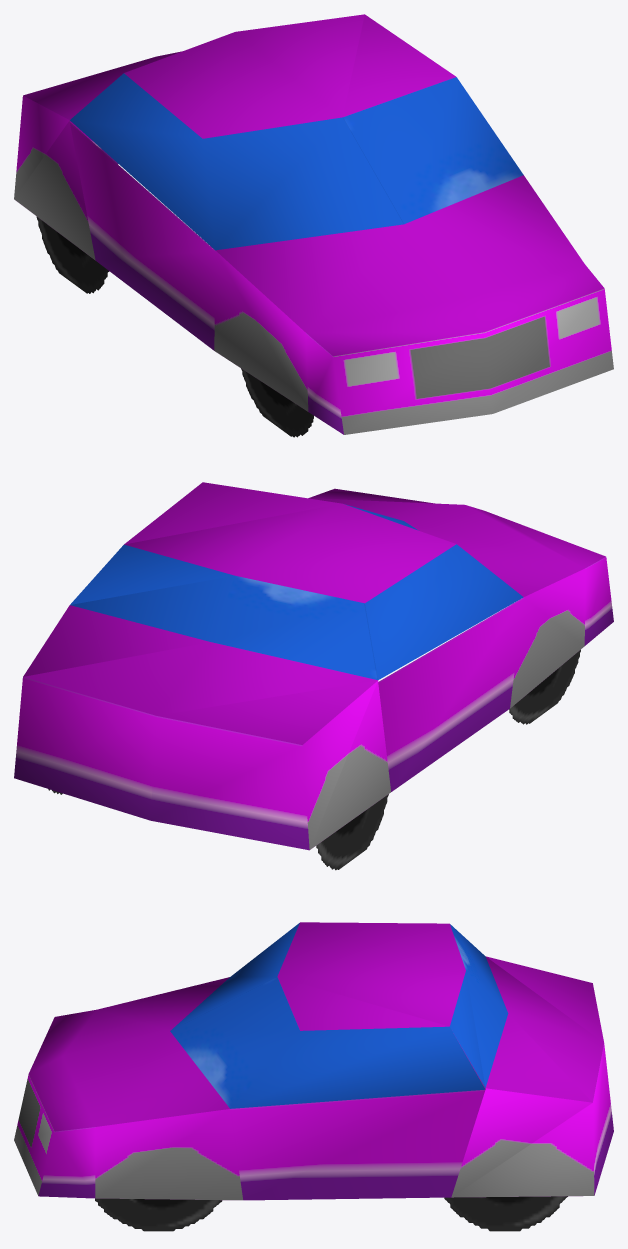
Rendered from ORG_CAR_PURPLE.obj.
The picture shows the model from 3 angles, top to bottom: view 1: azimuth 30°, elevation 25°; view 2: azimuth 150°, elevation 25°; view 3: azimuth 270°, elevation 25°; orthographic projection. The views are drawn at different scales.
Parts seen in each view (by area): view 1: default; view 2: default; view 3: default.
Boxes of the visible parts, box(x1,y1,x2,y2) form: default: box(14, 14, 613, 437); default: box(14, 482, 613, 870); default: box(14, 922, 613, 1231).
Bounding box in the file's own units: 12 × 8.69 × 23.06.
Materials: 1 (1 with a texture image).
